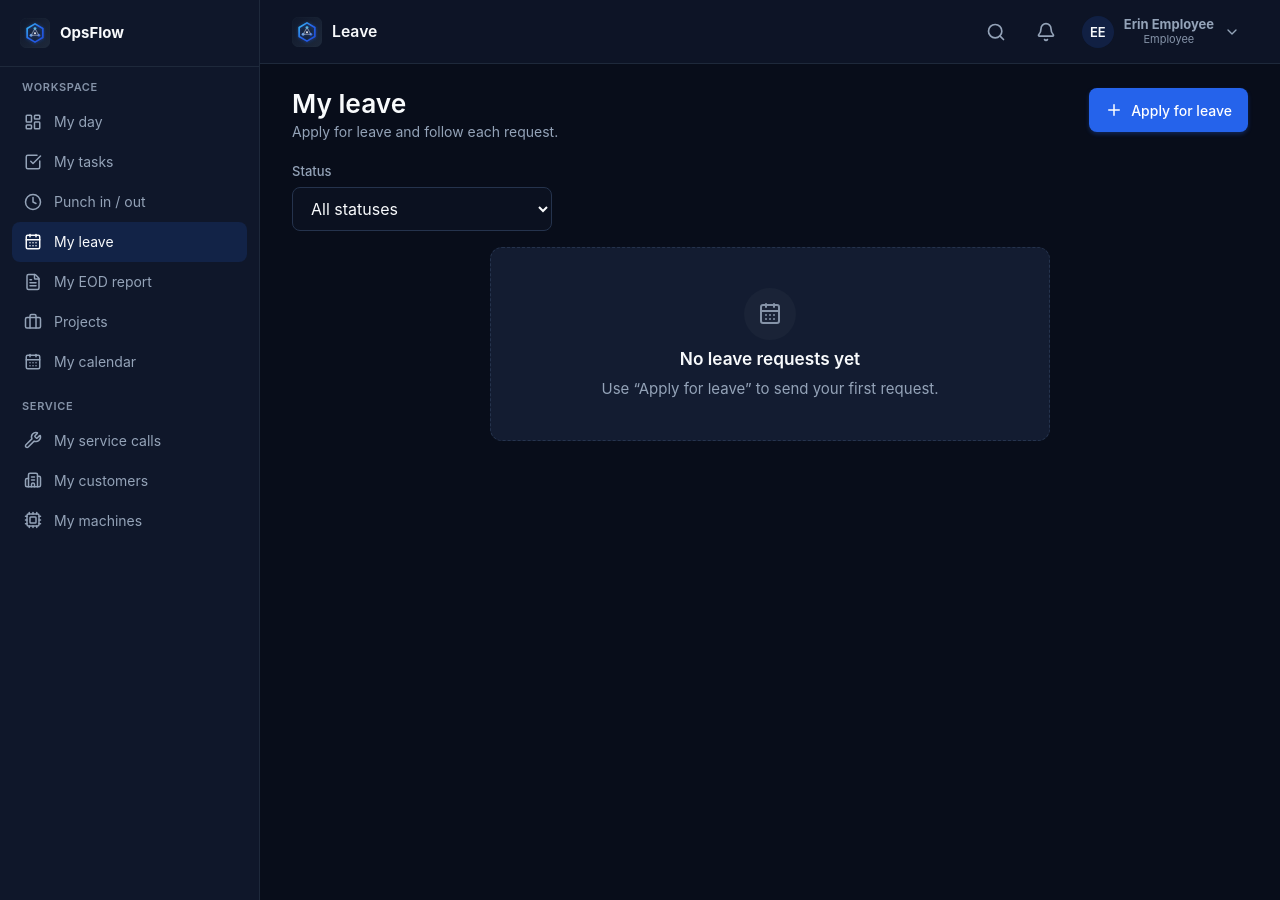
Scenario: My leave › says a compensatory off counts as no leave
Click the button "Apply for leave" at (1169, 110), box [1089,88,1248,132]
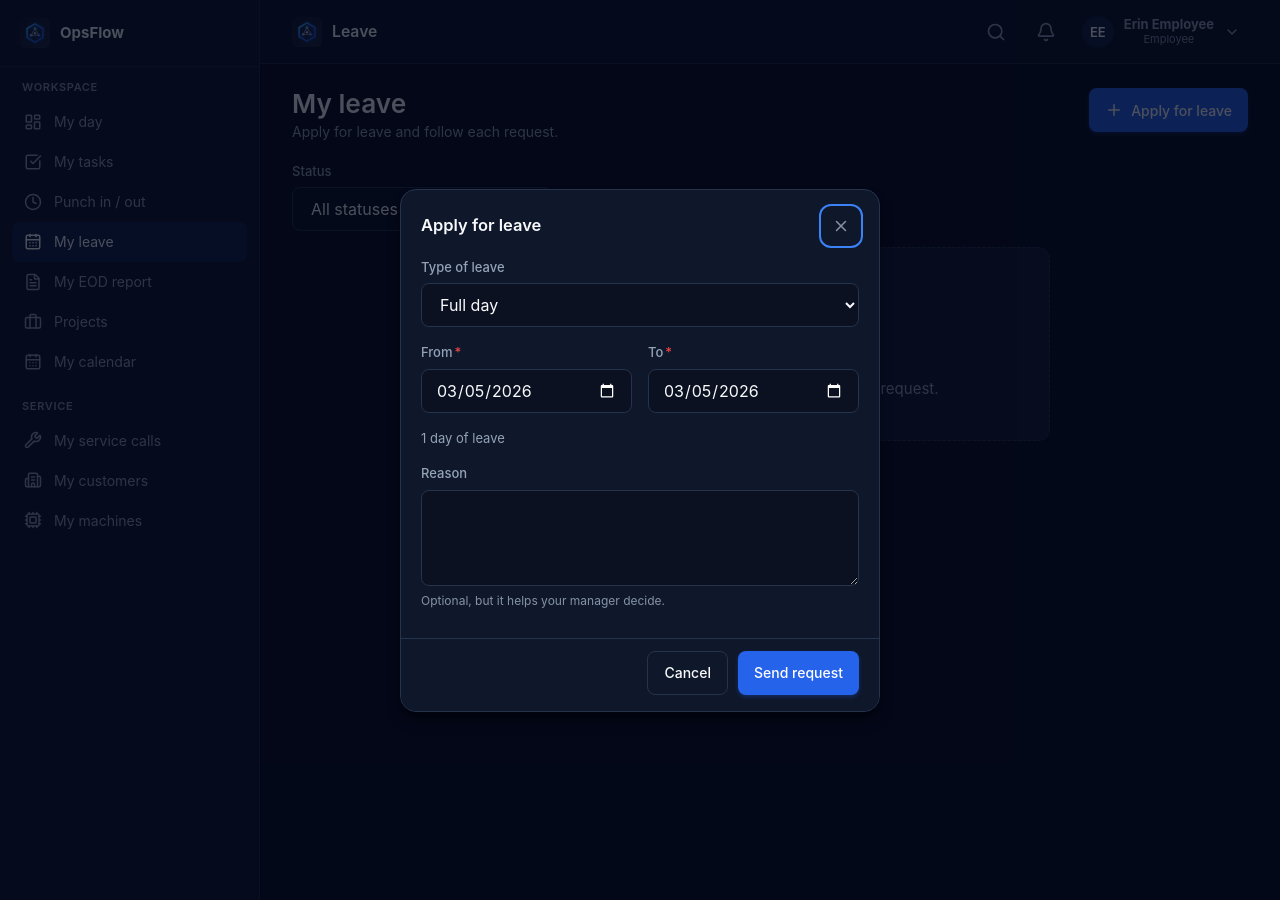
Select "Compensatory off" in the dropdown labelled "Type of leave" at (640, 305), box [421,283,859,327]
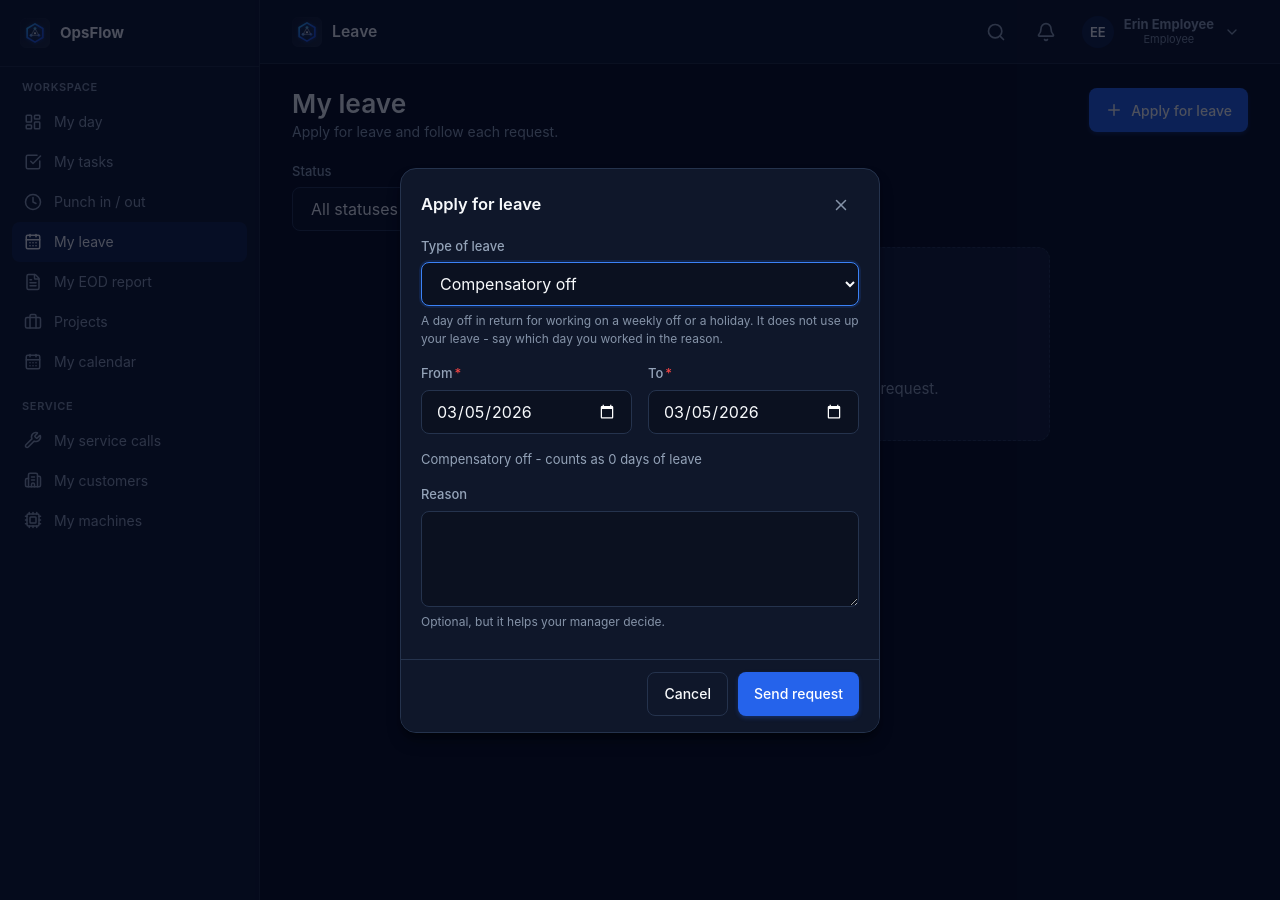
Result: the text "Compensatory off - counts as 0 days of leave" is shown at [421,450,702,466]
